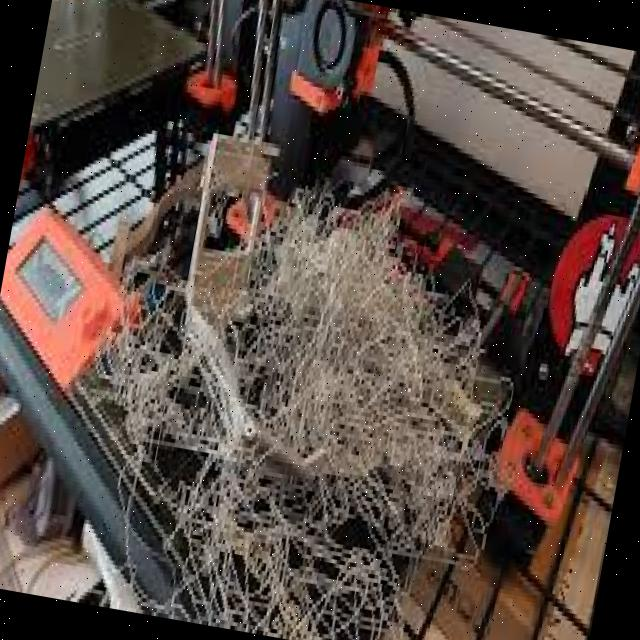spaghetti: (62, 138, 521, 623)
